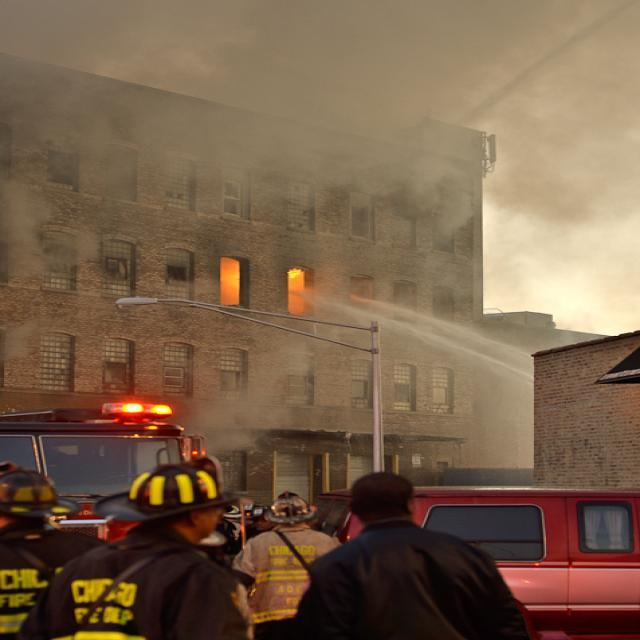Fire: (212, 252, 239, 308), (287, 274, 306, 312)
Smoke: (239, 3, 604, 114)
